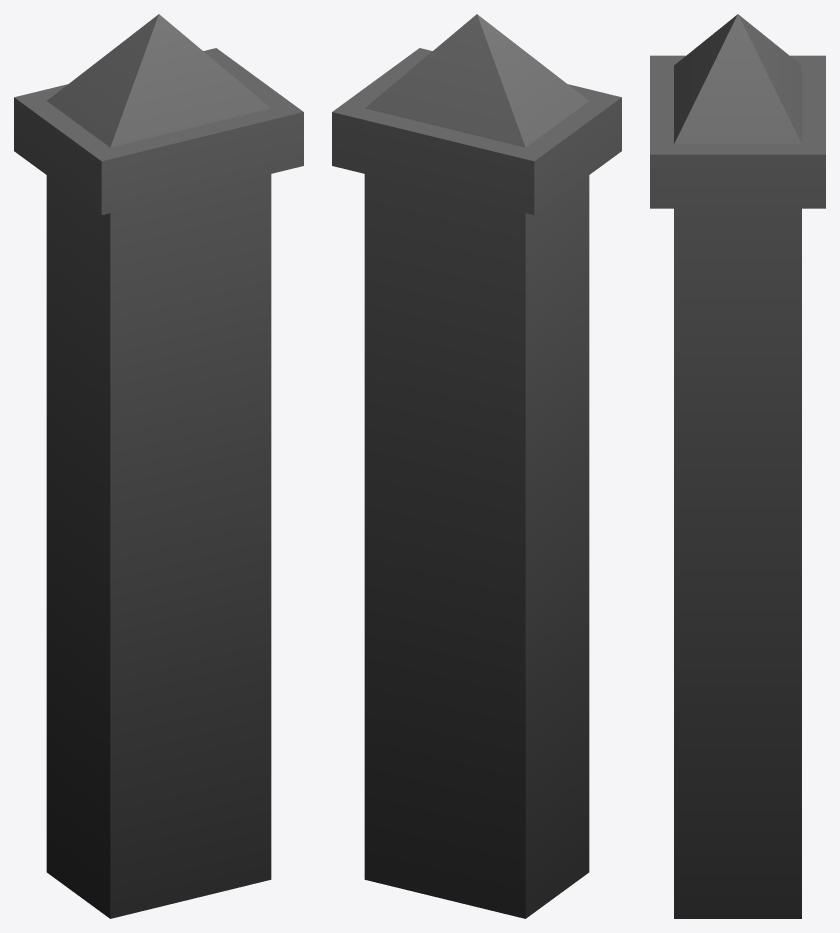
Rendered from PagerJ3.fbx.
The picture shows the model from 3 angles, left to right: view 1: azimuth 30°, elevation 25°; view 2: azimuth 150°, elevation 25°; view 3: azimuth 270°, elevation 25°; orthographic projection.
Visible parts, largest first — view 1: PagerJ3_LOD0; view 2: PagerJ3_LOD0; view 3: PagerJ3_LOD0.
Part boxes in pixels (x1,y1,x2,y2): PagerJ3_LOD0: [14, 14, 303, 918]; PagerJ3_LOD0: [332, 14, 621, 918]; PagerJ3_LOD0: [650, 14, 825, 918].
Size of what is drawn, in the model's own units: 44.5 by 181 by 33.37.
